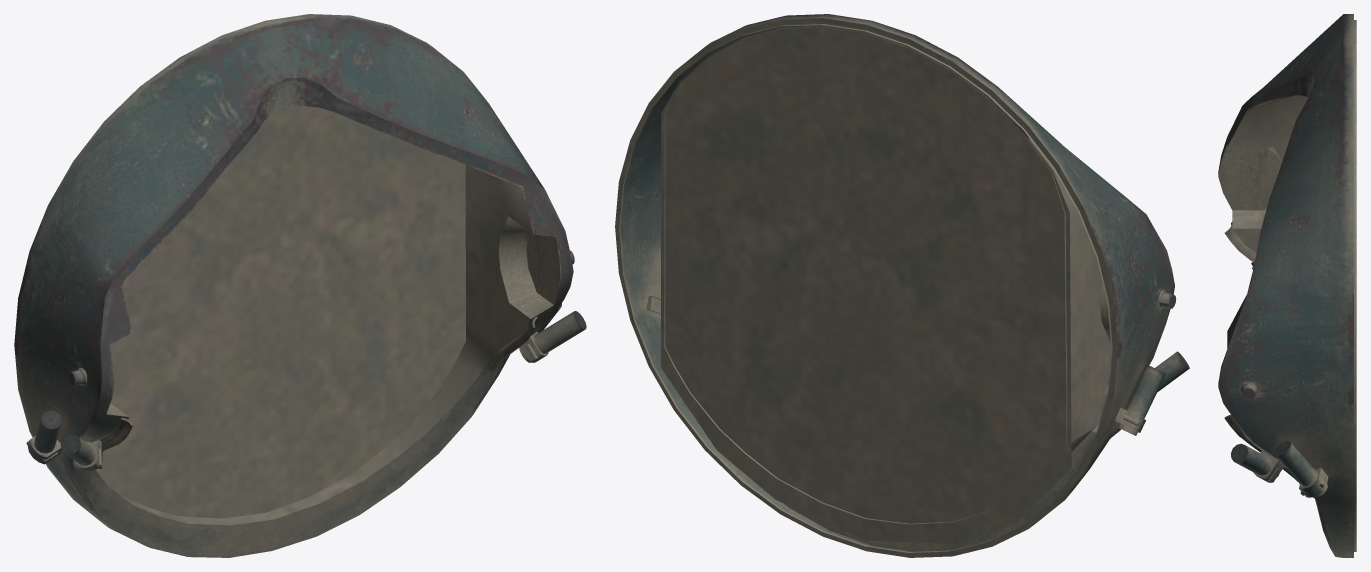
File: Turret_01.glb
3 views of the same model, side by side, from view 1: azimuth 30°, elevation 25°; view 2: azimuth 150°, elevation 25°; view 3: azimuth 270°, elevation 25° (orthographic). The views are drawn at different scales.
Parts seen in each view (by area): view 1: set_0_group_0; view 2: set_0_group_0; view 3: set_0_group_0.
Part boxes in pixels (bbox=[...]): set_0_group_0: bbox=[14, 14, 586, 557]; set_0_group_0: bbox=[615, 14, 1189, 557]; set_0_group_0: bbox=[1218, 14, 1356, 557].
Bounding box in the file's own units: 2.62 × 2.51 × 0.6344.
Materials: 1 (1 with a texture image).
